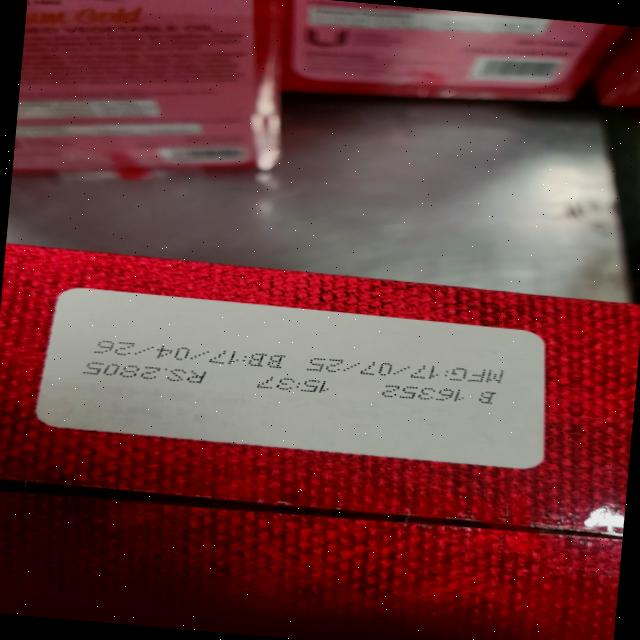BB: (94, 338, 297, 372)
Batch: (378, 379, 505, 407)
MFG: (311, 353, 508, 388)
RS: (84, 360, 208, 385)
TimeStamp: (254, 374, 334, 394)
